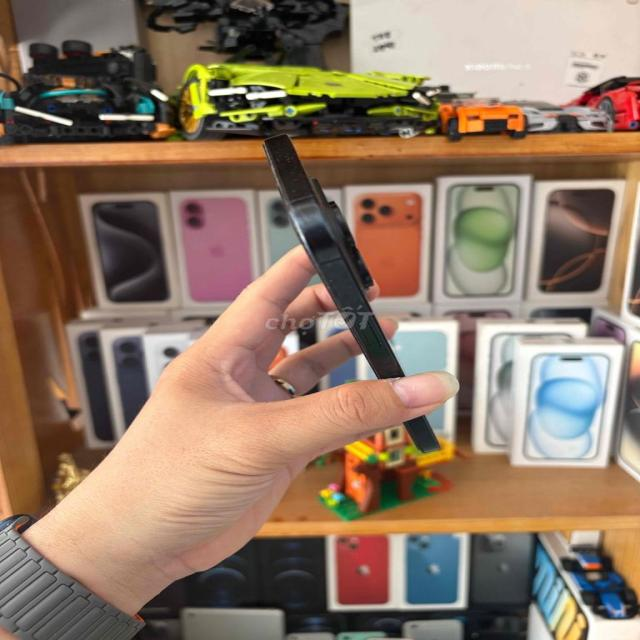gen_15: (233, 111, 452, 449)
